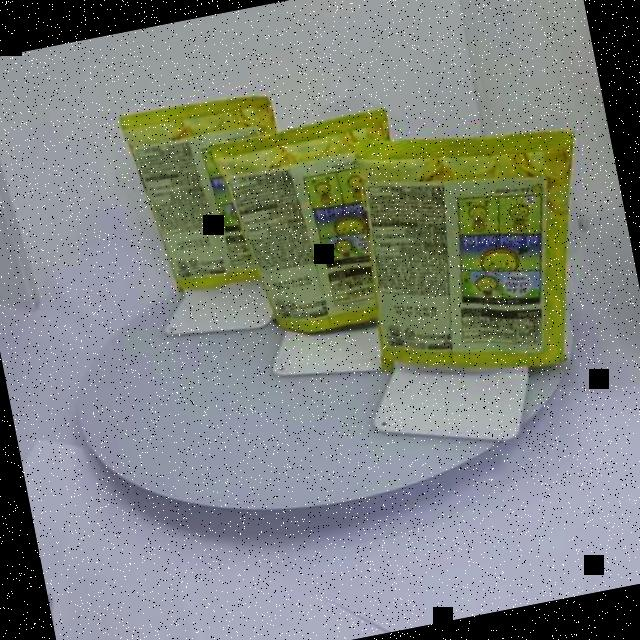snack_bag: (97, 19, 629, 458)
